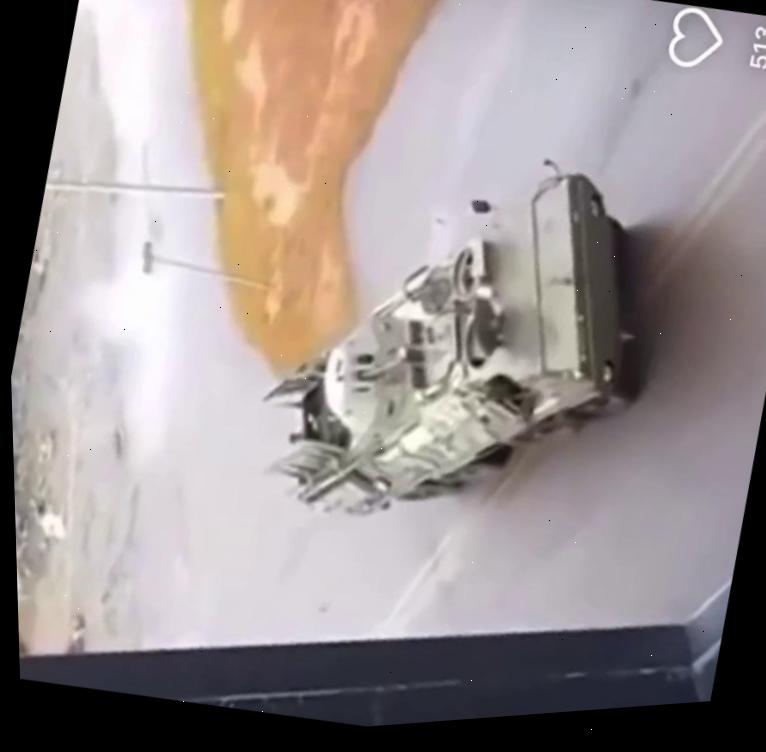tank: (234, 106, 690, 581)
